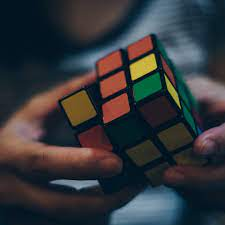cube: (56, 30, 210, 193)
